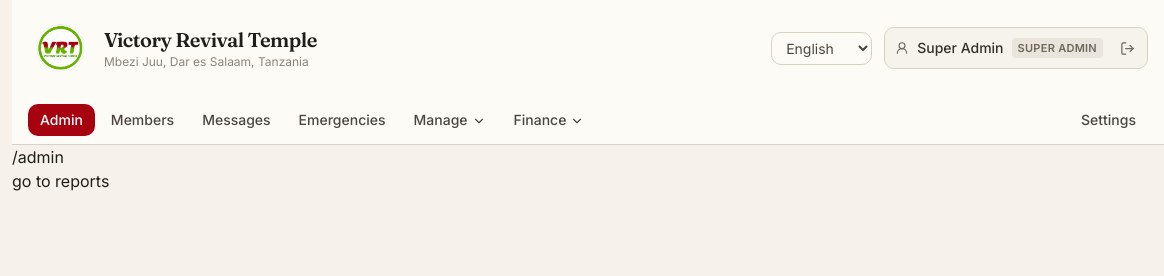
Test case: AppHeader navigation: desktop bar › navigates and closes when a destination inside a cluster is chosen
Click the button "Finance" at (549, 120), box [502,104,596,136]
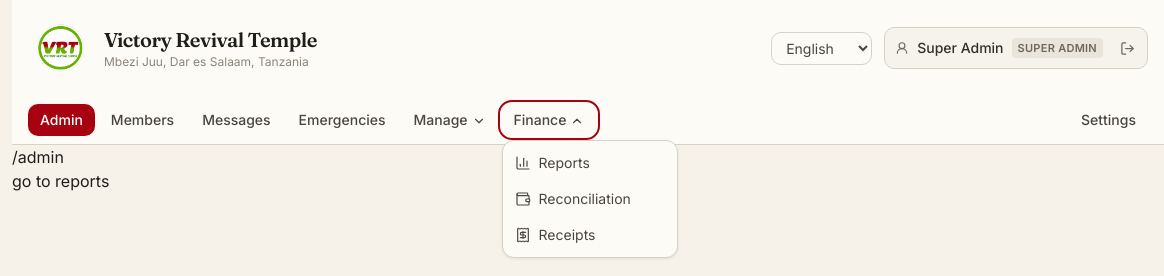
Click the link "Receipts" at (555, 234), box [514,226,595,243]
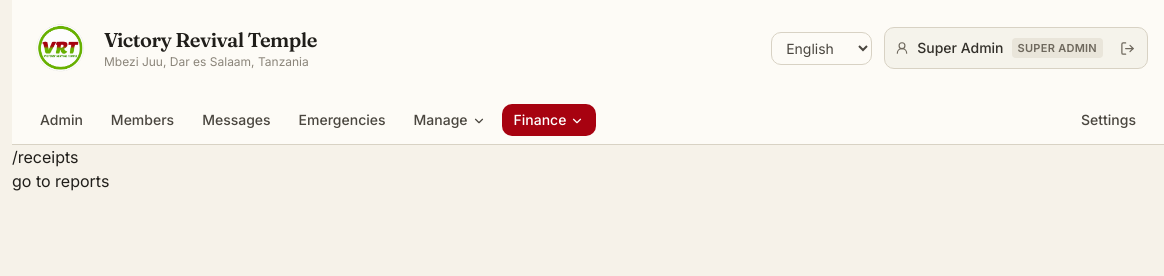
Result: the text with test id "path" reads "/receipts" at [12,147,78,167]
